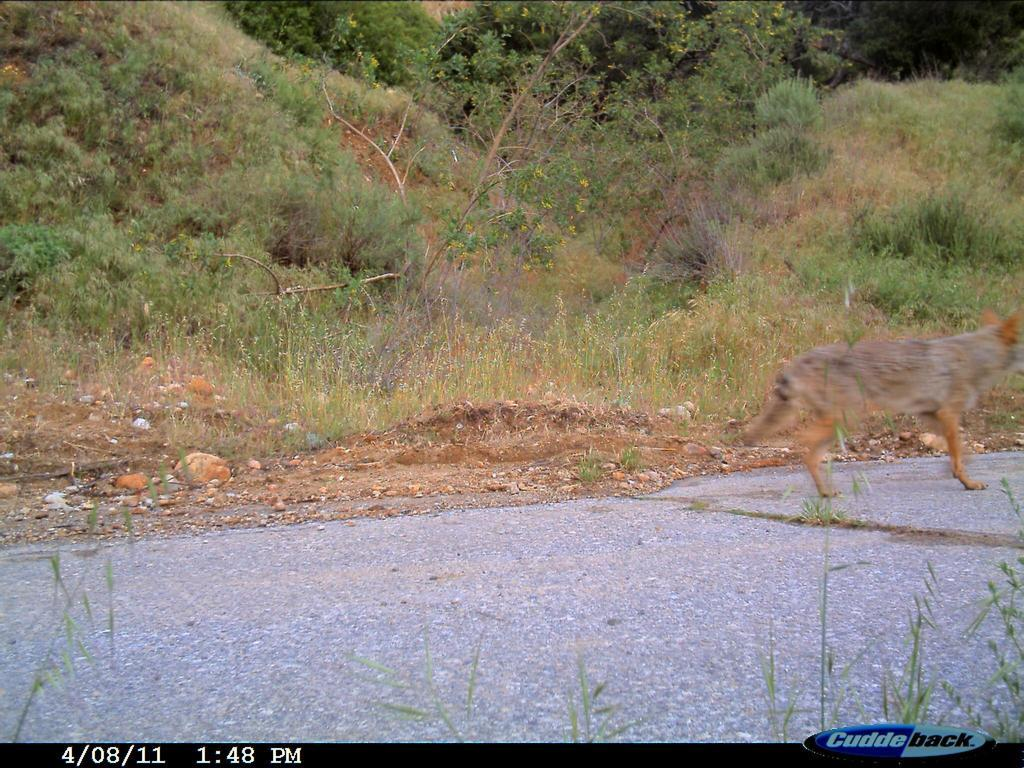coyote: (730, 297, 1023, 498)
